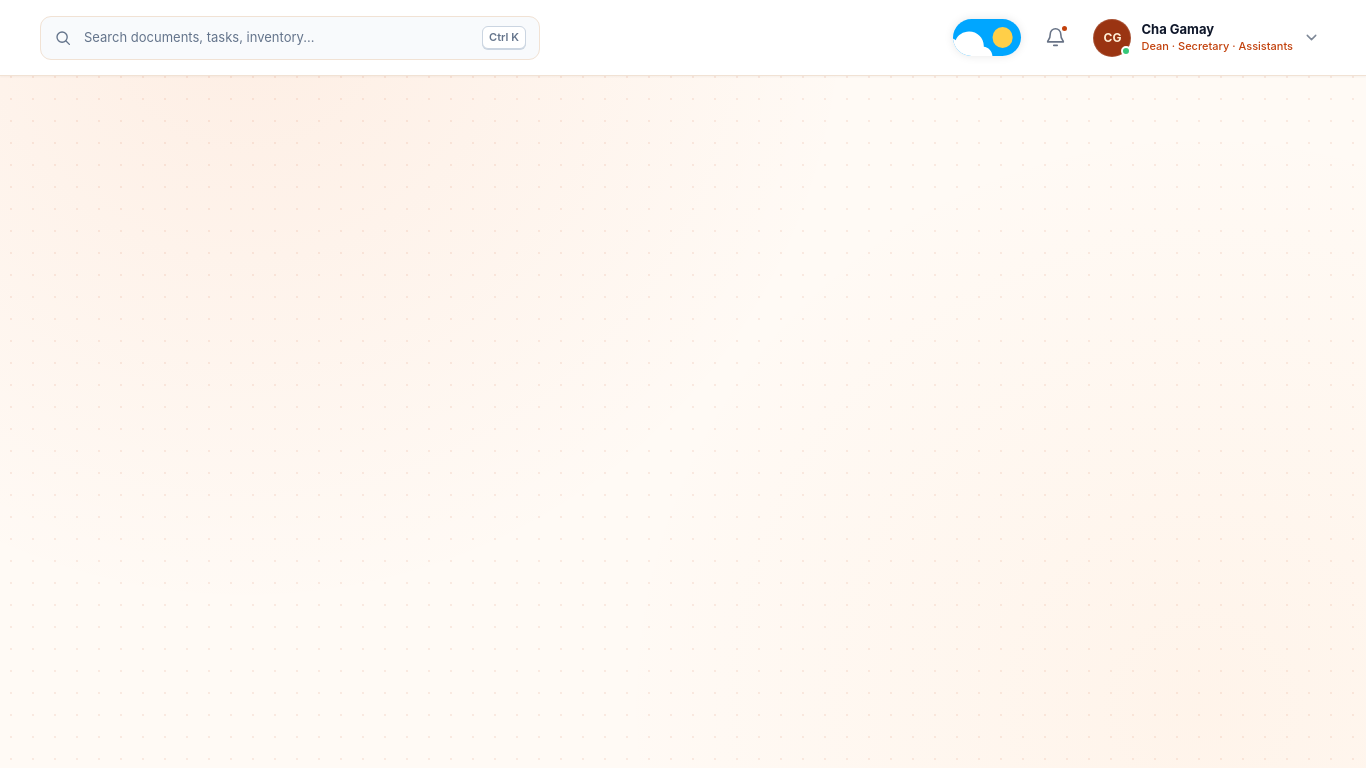
it: marking all alerts read removes the unread indicator
The width and height of the screenshot is (1366, 768).
What coordinates should you click on to do the following:
click the button named "Notifications, 1 unread"
I would click on:
 (1056, 38)
Its box is [1036, 18, 1076, 58].
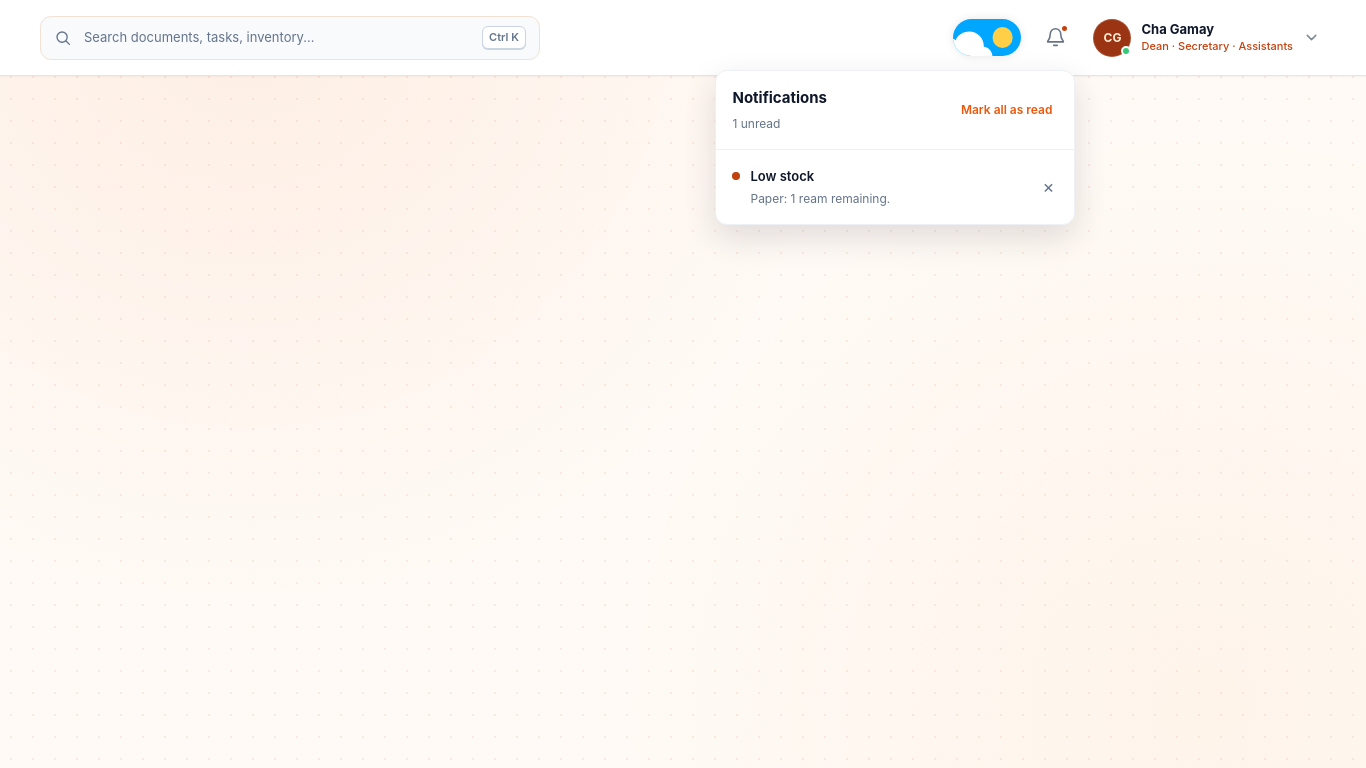
What coordinates should you click on to do the following:
click the button "Mark all as read"
I would click on:
 (1007, 110)
Its box is [955, 95, 1058, 125].
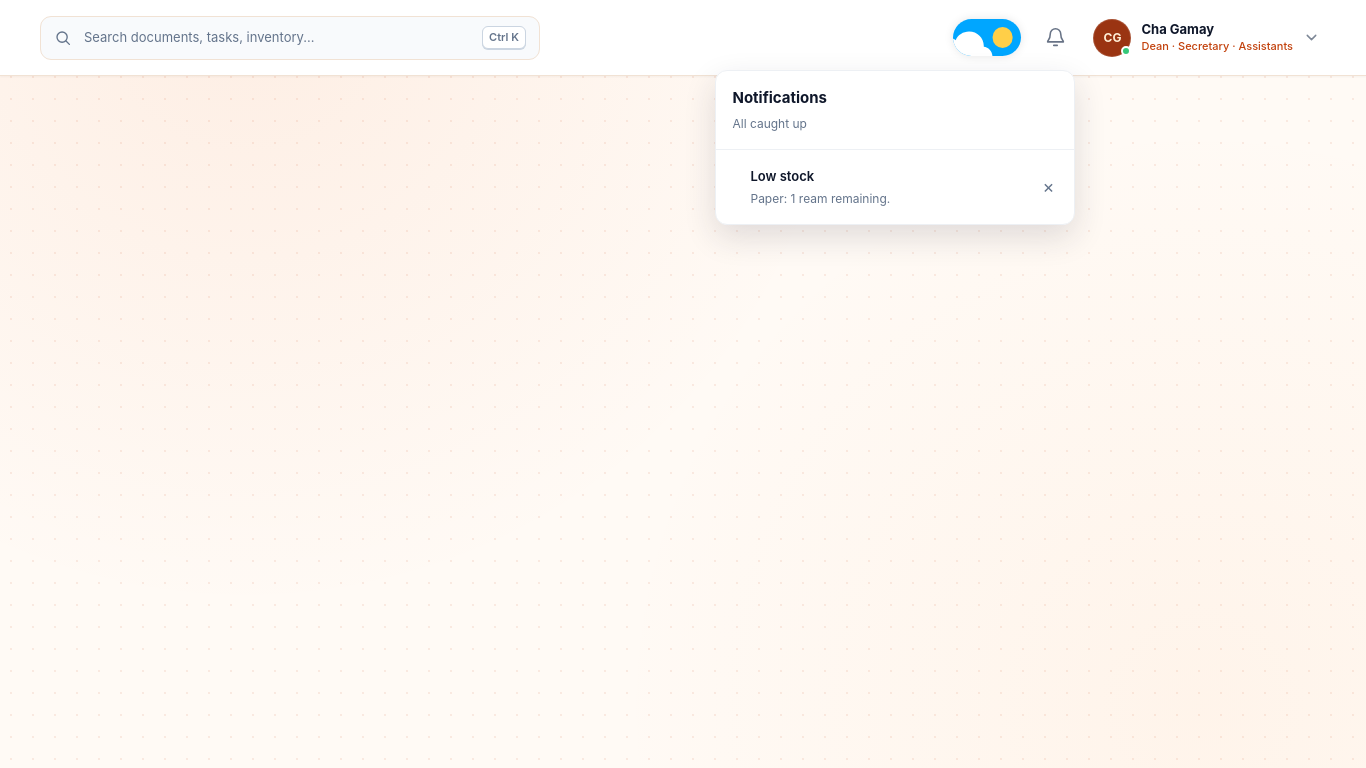
expect the button named "Notifications" is shown: met, box [1036, 18, 1076, 58]
expect the text "All caught up" is shown: met, box [732, 116, 807, 131]
